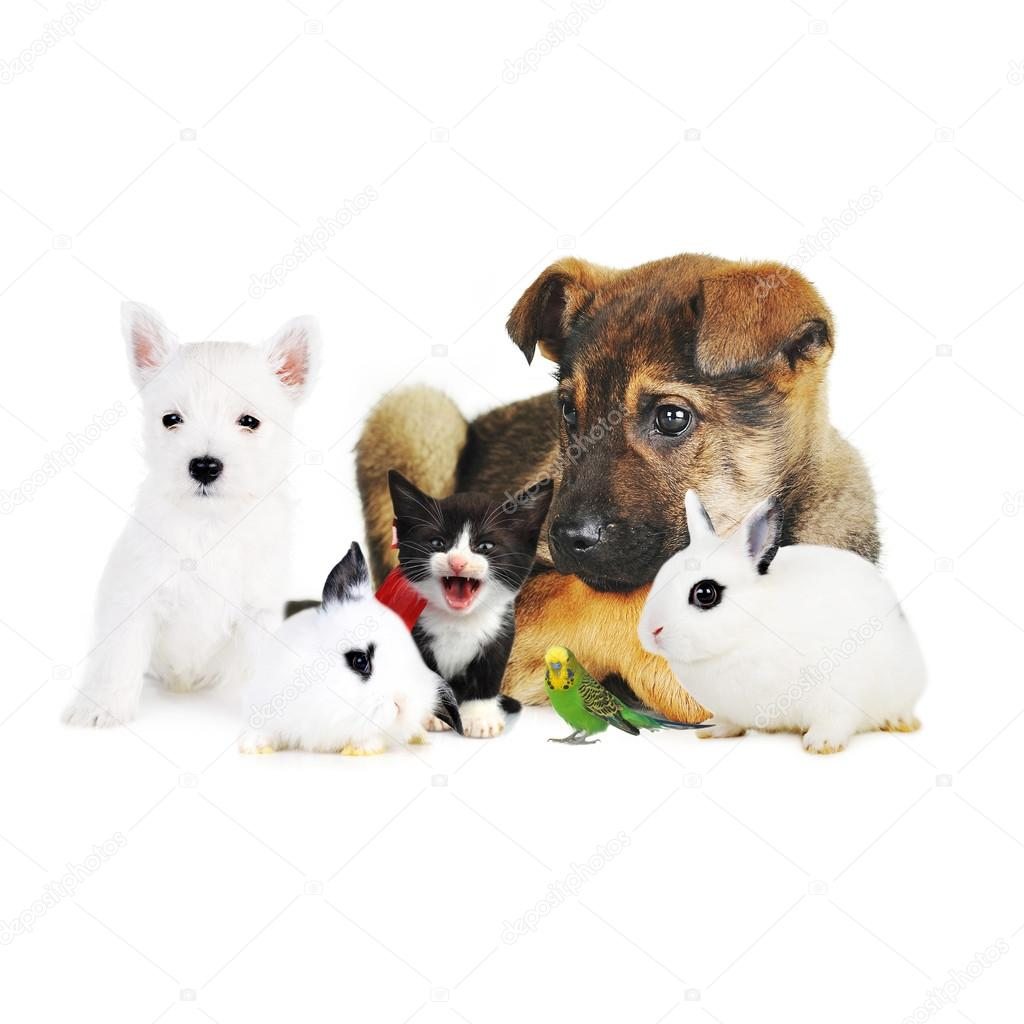cat: (366, 479, 546, 742)
dog: (411, 240, 894, 587), (56, 274, 290, 673)
rabbit: (652, 502, 934, 752), (240, 560, 410, 759)
